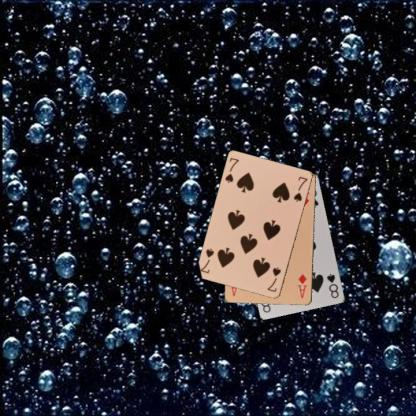7s: (264, 264, 283, 294), (222, 155, 240, 184)
8s: (325, 271, 340, 299)
Ad: (295, 272, 308, 299)
